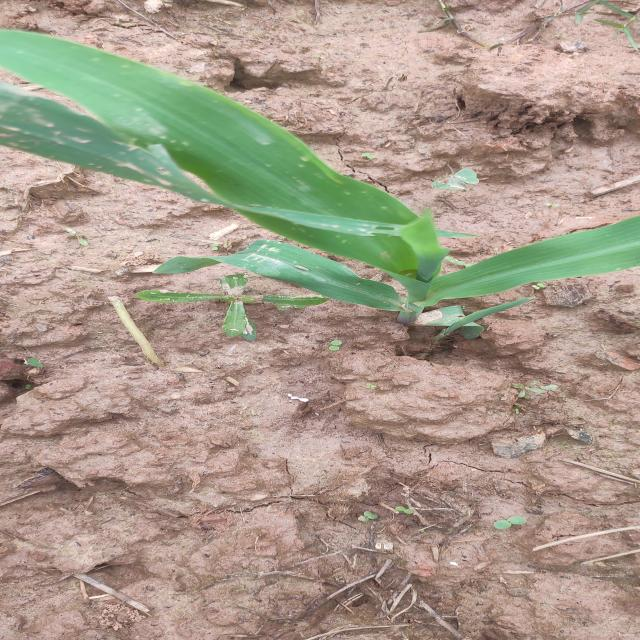maize: (0, 22, 640, 367)
weed: (135, 274, 342, 350), (416, 159, 508, 197), (352, 504, 418, 520), (495, 507, 529, 538)
